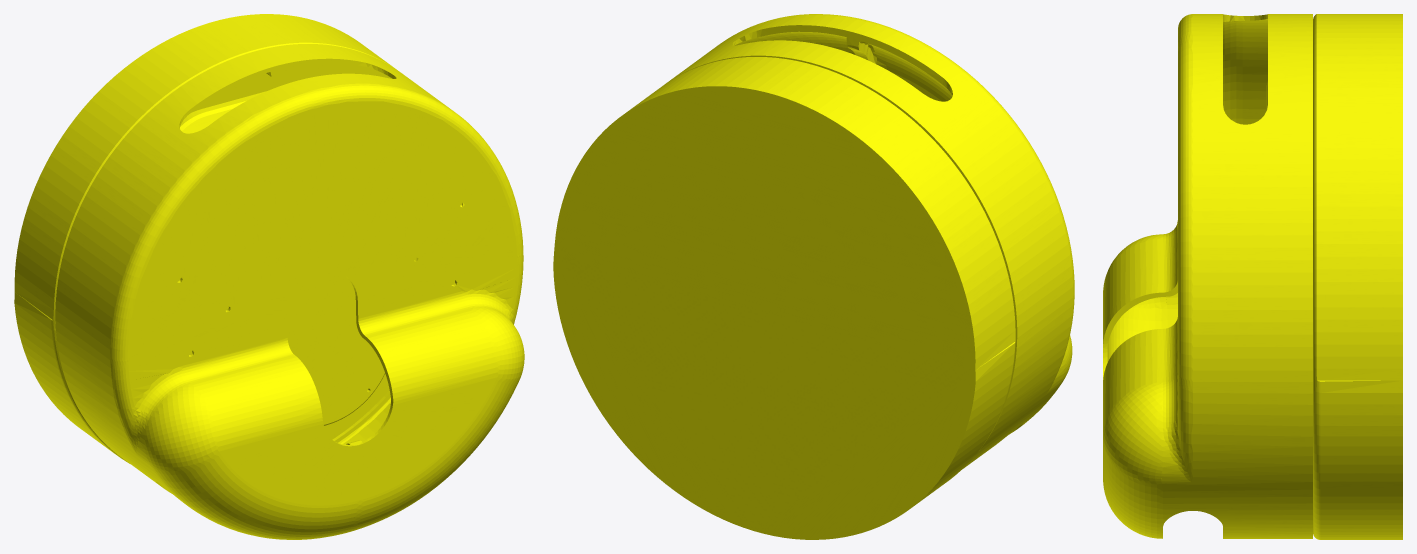
The model's file is base_mini.dae.
The picture shows the model from 3 angles, left to right: view 1: azimuth 30°, elevation 25°; view 2: azimuth 150°, elevation 25°; view 3: azimuth 270°, elevation 25°; orthographic projection. The views are drawn at different scales.
Visible parts, largest first — view 1: node; view 2: node; view 3: node.
Part boxes in pixels (<box>): node: <box>14,14,524,539</box>; node: <box>553,14,1074,539</box>; node: <box>1103,14,1402,539</box>.
Size of the model in its own units: 35.14 by 35.07 by 20.
Materials: 1 (1 with a texture image).
